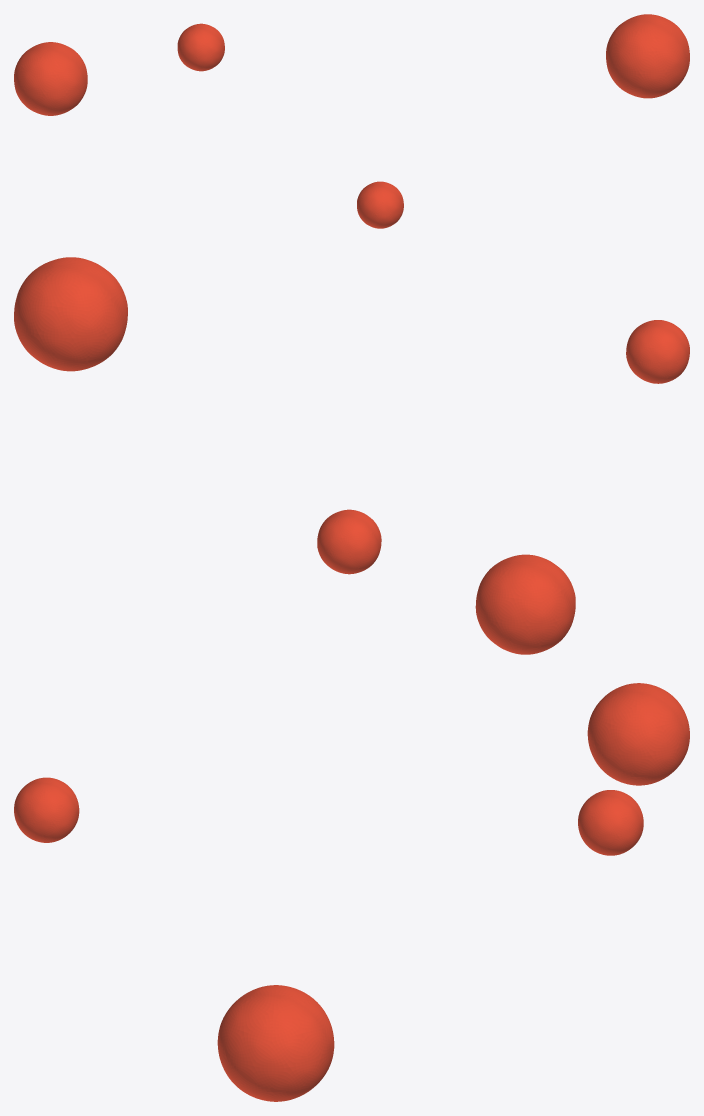
The model's file is soupedWaterSky001_02.fbx.
3 renders of one model, top to bottom at view 1: azimuth 30°, elevation 25°; view 2: azimuth 150°, elevation 25°; view 3: azimuth 270°, elevation 25°, orthographic. The views are drawn at different scales.
Parts seen in each view (by area): view 1: waterSky001.002; view 2: waterSky001.002; view 3: waterSky001.002.
Part boxes in pixels (x1=…): waterSky001.002: x1=14, y1=14, x2=689, y2=228; waterSky001.002: x1=14, y1=257, x2=689, y2=654; waterSky001.002: x1=14, y1=683, x2=689, y2=1101.
Bounding box in the file's own units: 145 × 19.94 × 115.
